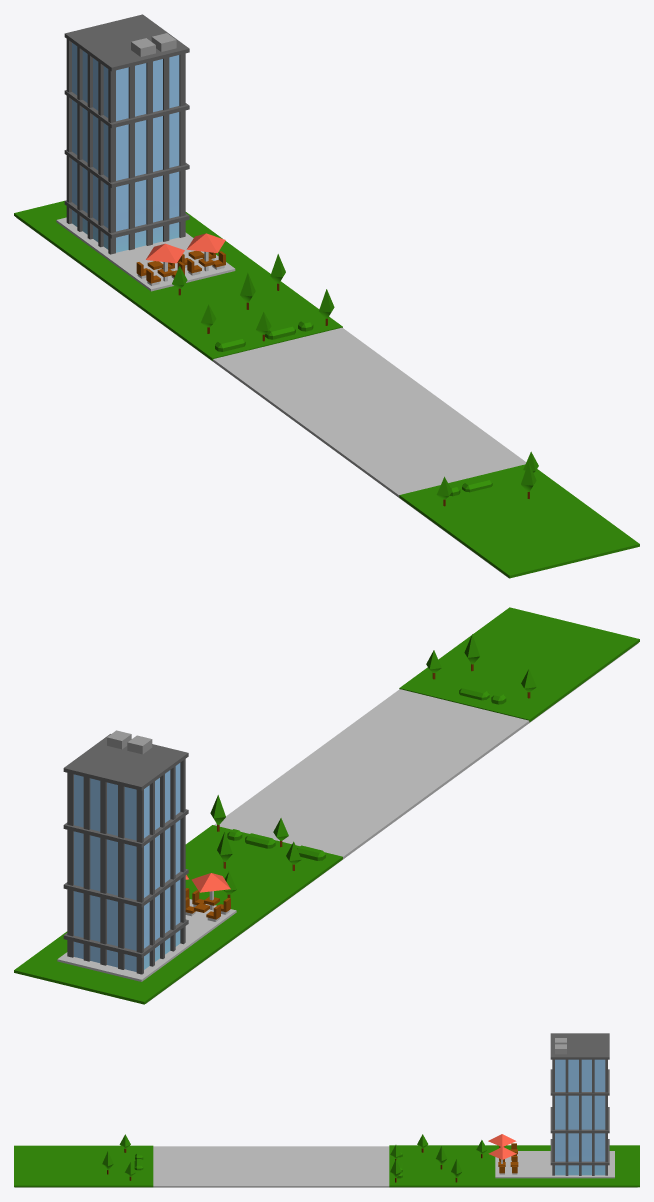
The model's file is Level 1 Chunk 2.fbx.
3 renders of one model, top to bottom at view 1: azimuth 30°, elevation 25°; view 2: azimuth 150°, elevation 25°; view 3: azimuth 270°, elevation 25°, orthographic. The views are drawn at different scales.
Visible parts, largest first — view 1: Building_A6, pCube2218, pCube2213, pCube2216, pCube2203, Seat_with_shades3, Seat_with_shades5; view 2: Building_A6, pCube2218, pCube2213, pCube2216, pCube2203, Seat_with_shades5; view 3: pCube2218, Building_A6, pCube2216, pCube2213, pCube2203, Seat_with_shades3.
Part boxes in pixels (x1,y1,x2,y2): Building_A6: (64,14,189,254); pCube2218: (17,218,526,578); pCube2213: (399,464,639,578); pCube2216: (14,201,342,360); pCube2203: (56,217,235,291); Seat_with_shades3: (186,233,225,275); Seat_with_shades5: (146,243,184,285); Building_A6: (63,730,188,974); pCube2218: (146,643,638,1003); pCube2213: (399,607,639,722); pCube2216: (14,825,342,1004); pCube2203: (57,899,236,981); Seat_with_shades5: (191,873,230,914); pCube2218: (15,1146,637,1187); Building_A6: (550,1033,609,1175); pCube2216: (389,1145,639,1187); pCube2213: (14,1145,153,1187); pCube2203: (495,1151,614,1178); Seat_with_shades3: (488,1146,516,1174).
Bounding box in the file's own units: 6.13 × 9.1 × 40.34.
Materials: 1 (1 with a texture image).
